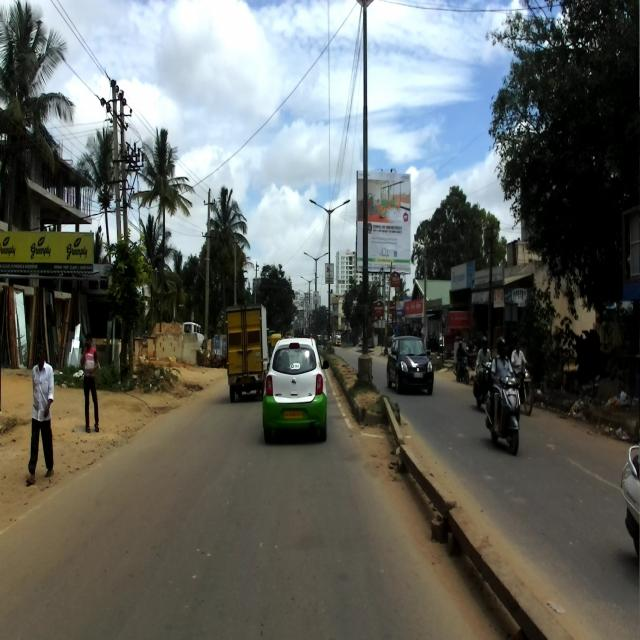car: (262, 337, 329, 442), (384, 332, 437, 400)
scooter: (482, 371, 524, 454)
